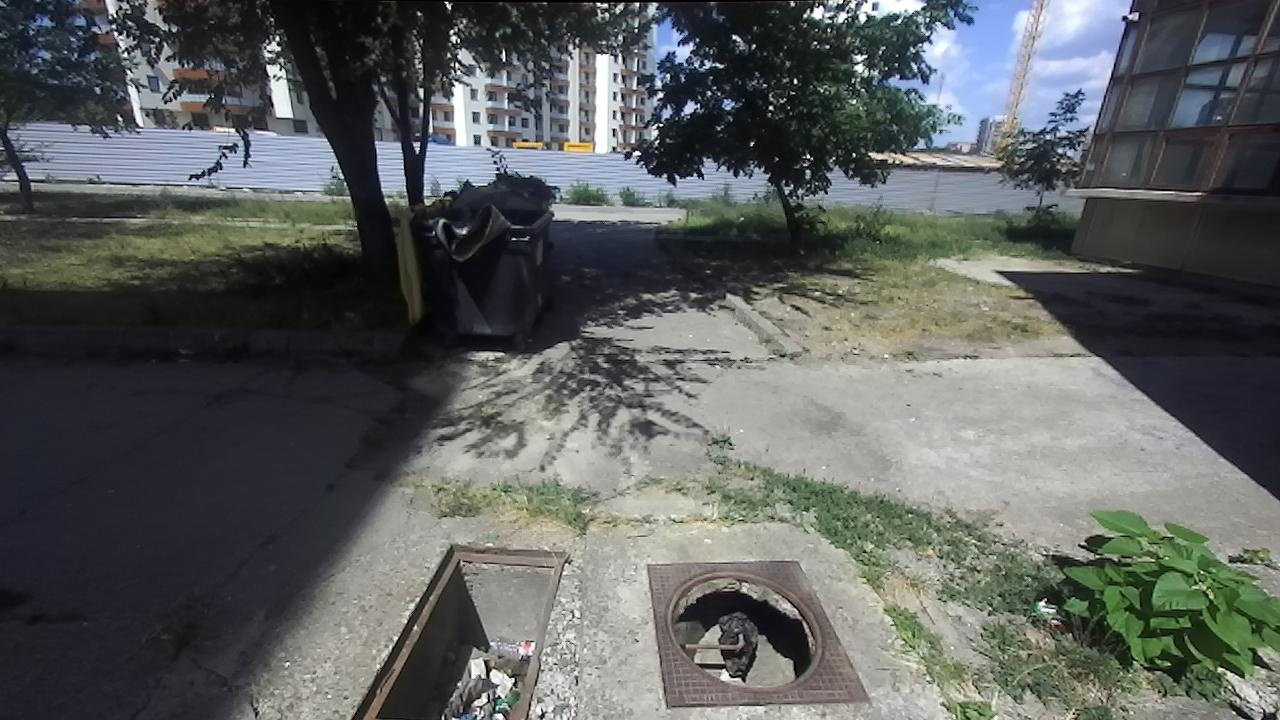drain: (349, 541, 573, 718), (663, 566, 826, 689)
